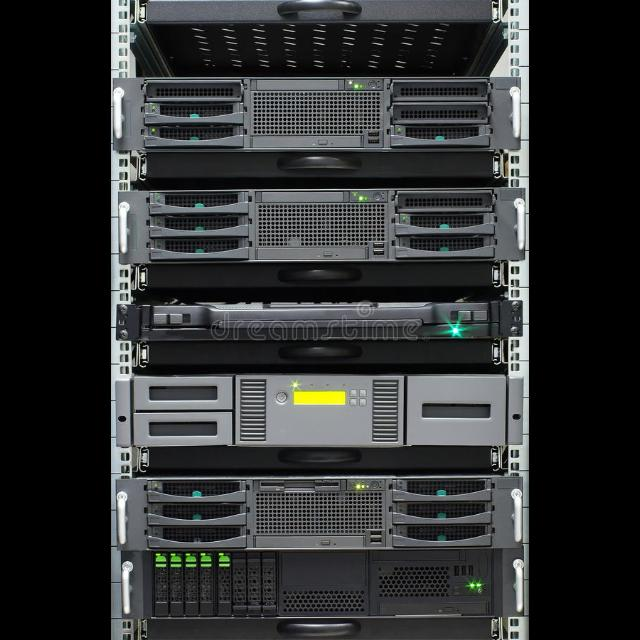Server: (126, 65, 524, 640)
